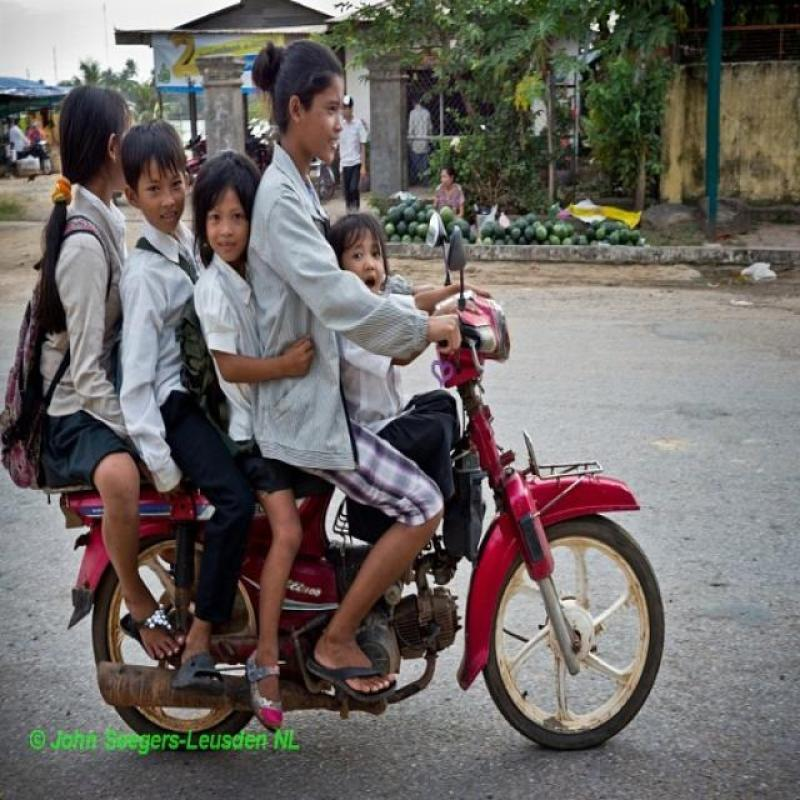nohelmet: (234, 25, 370, 173)
